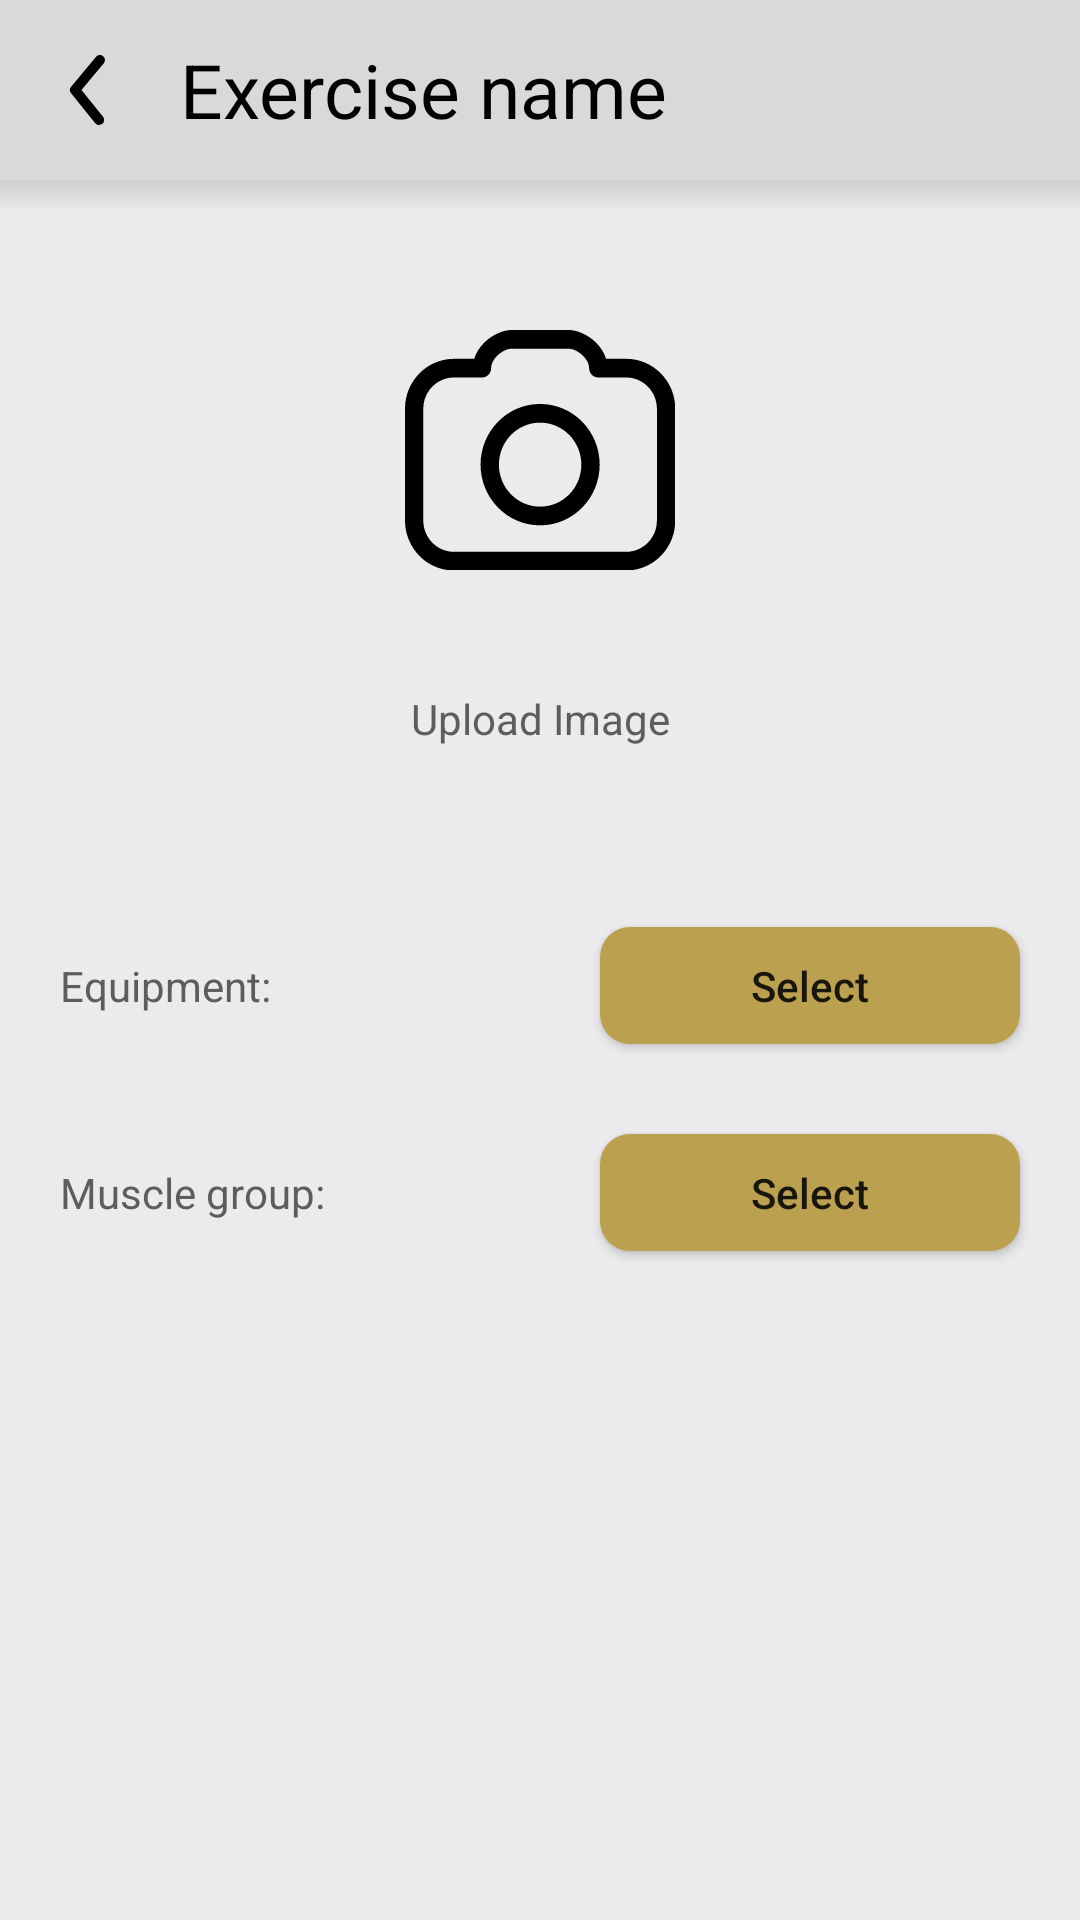

Screen size 1080×1920. Icon name, then its center in pixels as (x=x, y=y):
back arrow: (x=87, y=90)
camera: (x=540, y=450)
